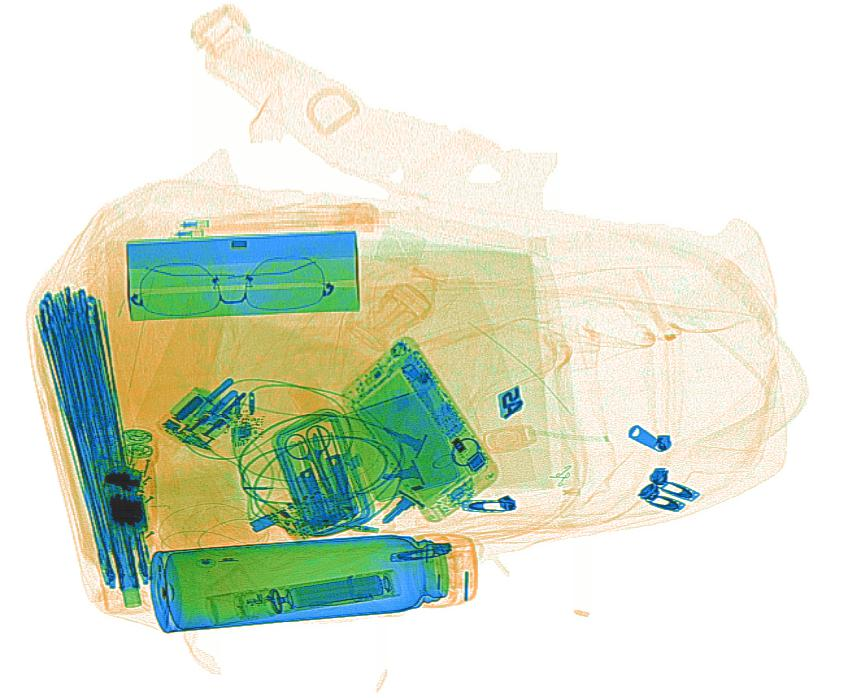battery: (282, 574, 388, 611), (106, 496, 149, 535)
scissors: (280, 423, 345, 502)
